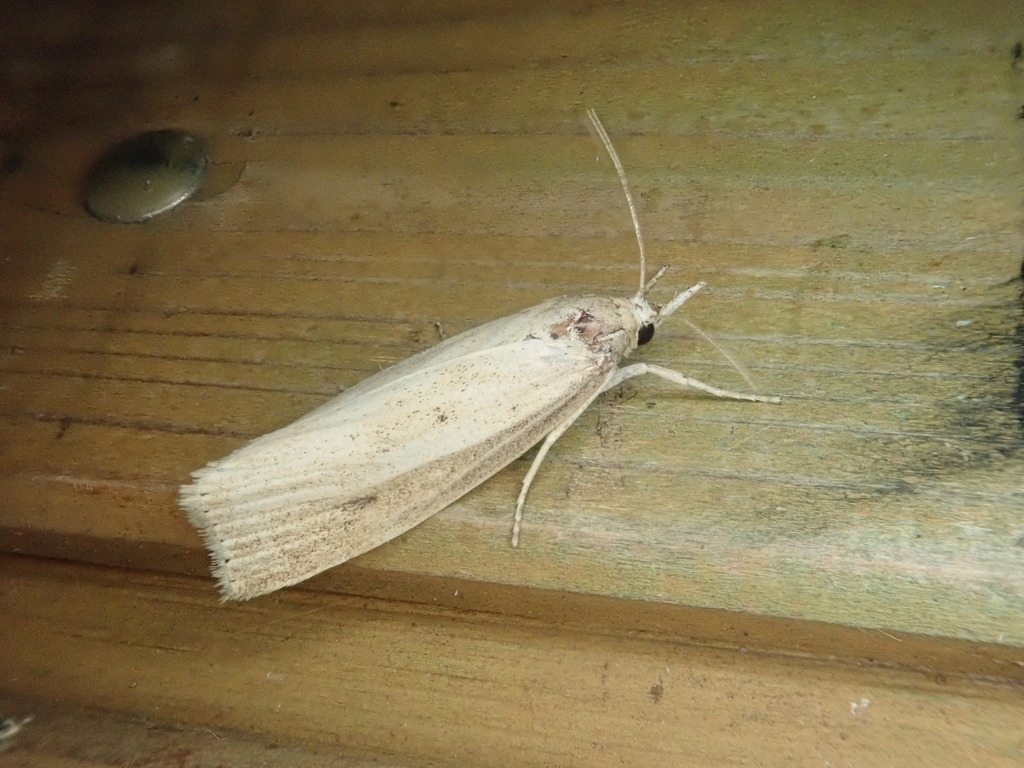Crambidae: (172, 106, 783, 614)
